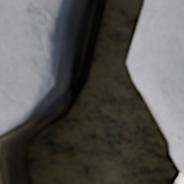broken_brick: (130, 0, 183, 178), (0, 0, 68, 132)
crack: (0, 0, 182, 183)
